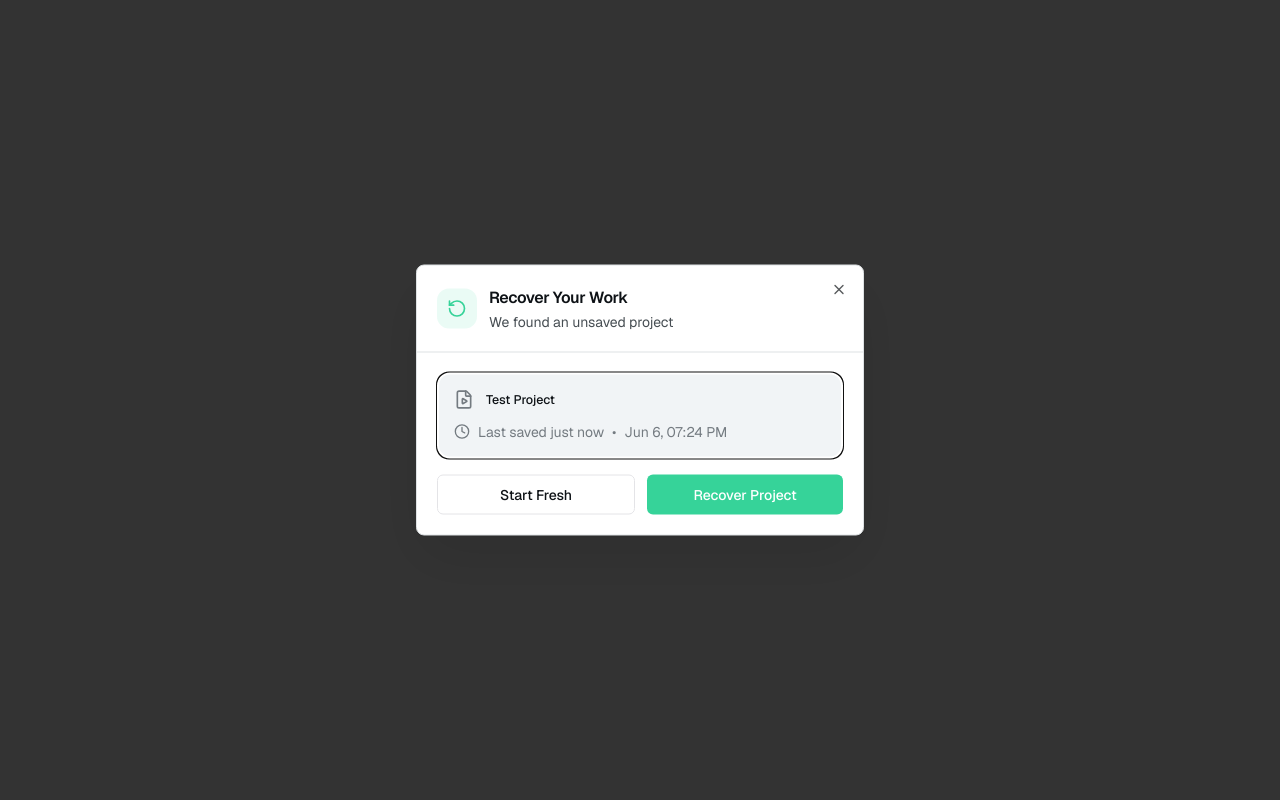
RecoveryDialog › disables recover button while recovering
The width and height of the screenshot is (1280, 800).
Click the button "Recover Project" at (745, 494), box [647, 474, 843, 514]
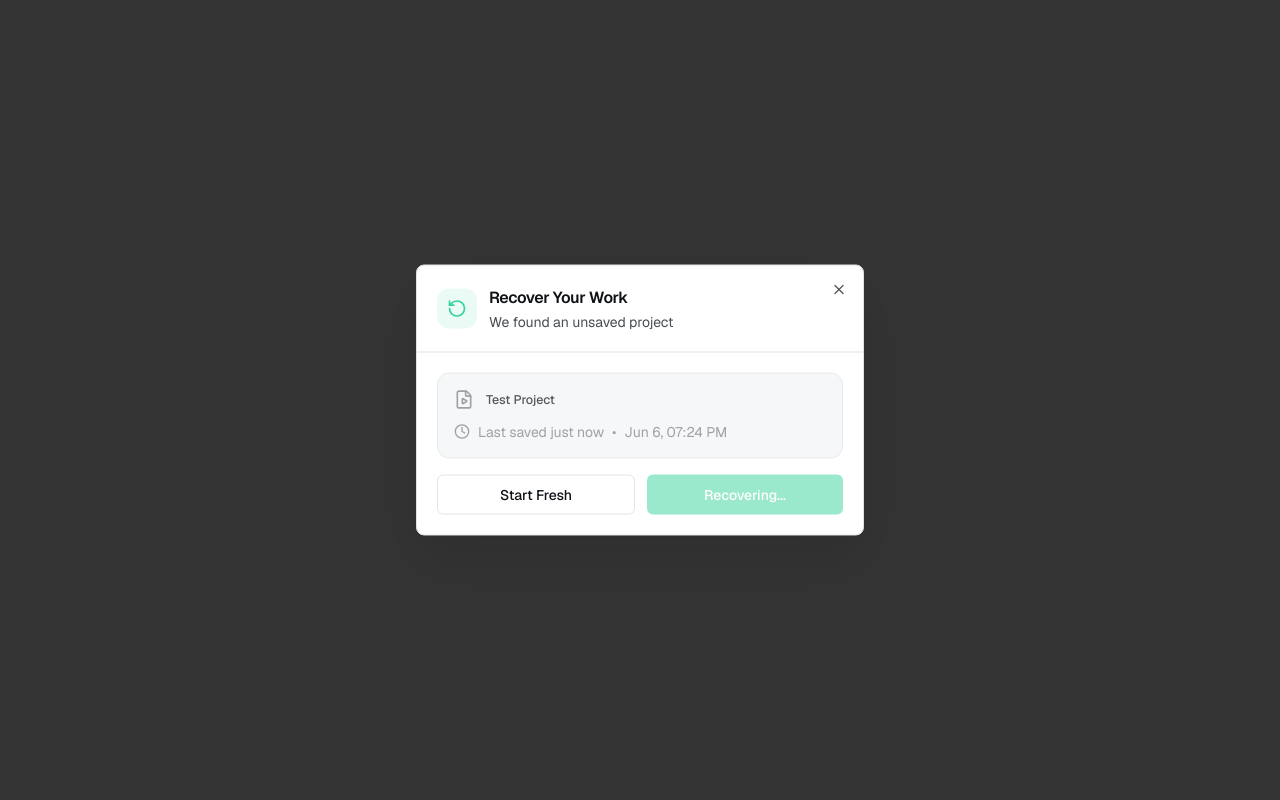
Now the button "Recovering..." is shown, box [647, 474, 843, 514]
